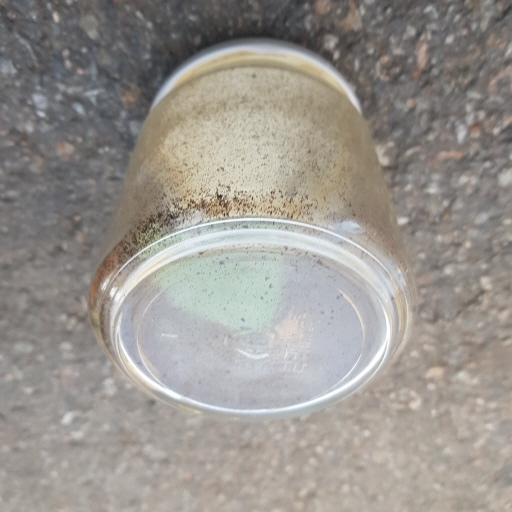Glass_5: (80, 41, 414, 412)
